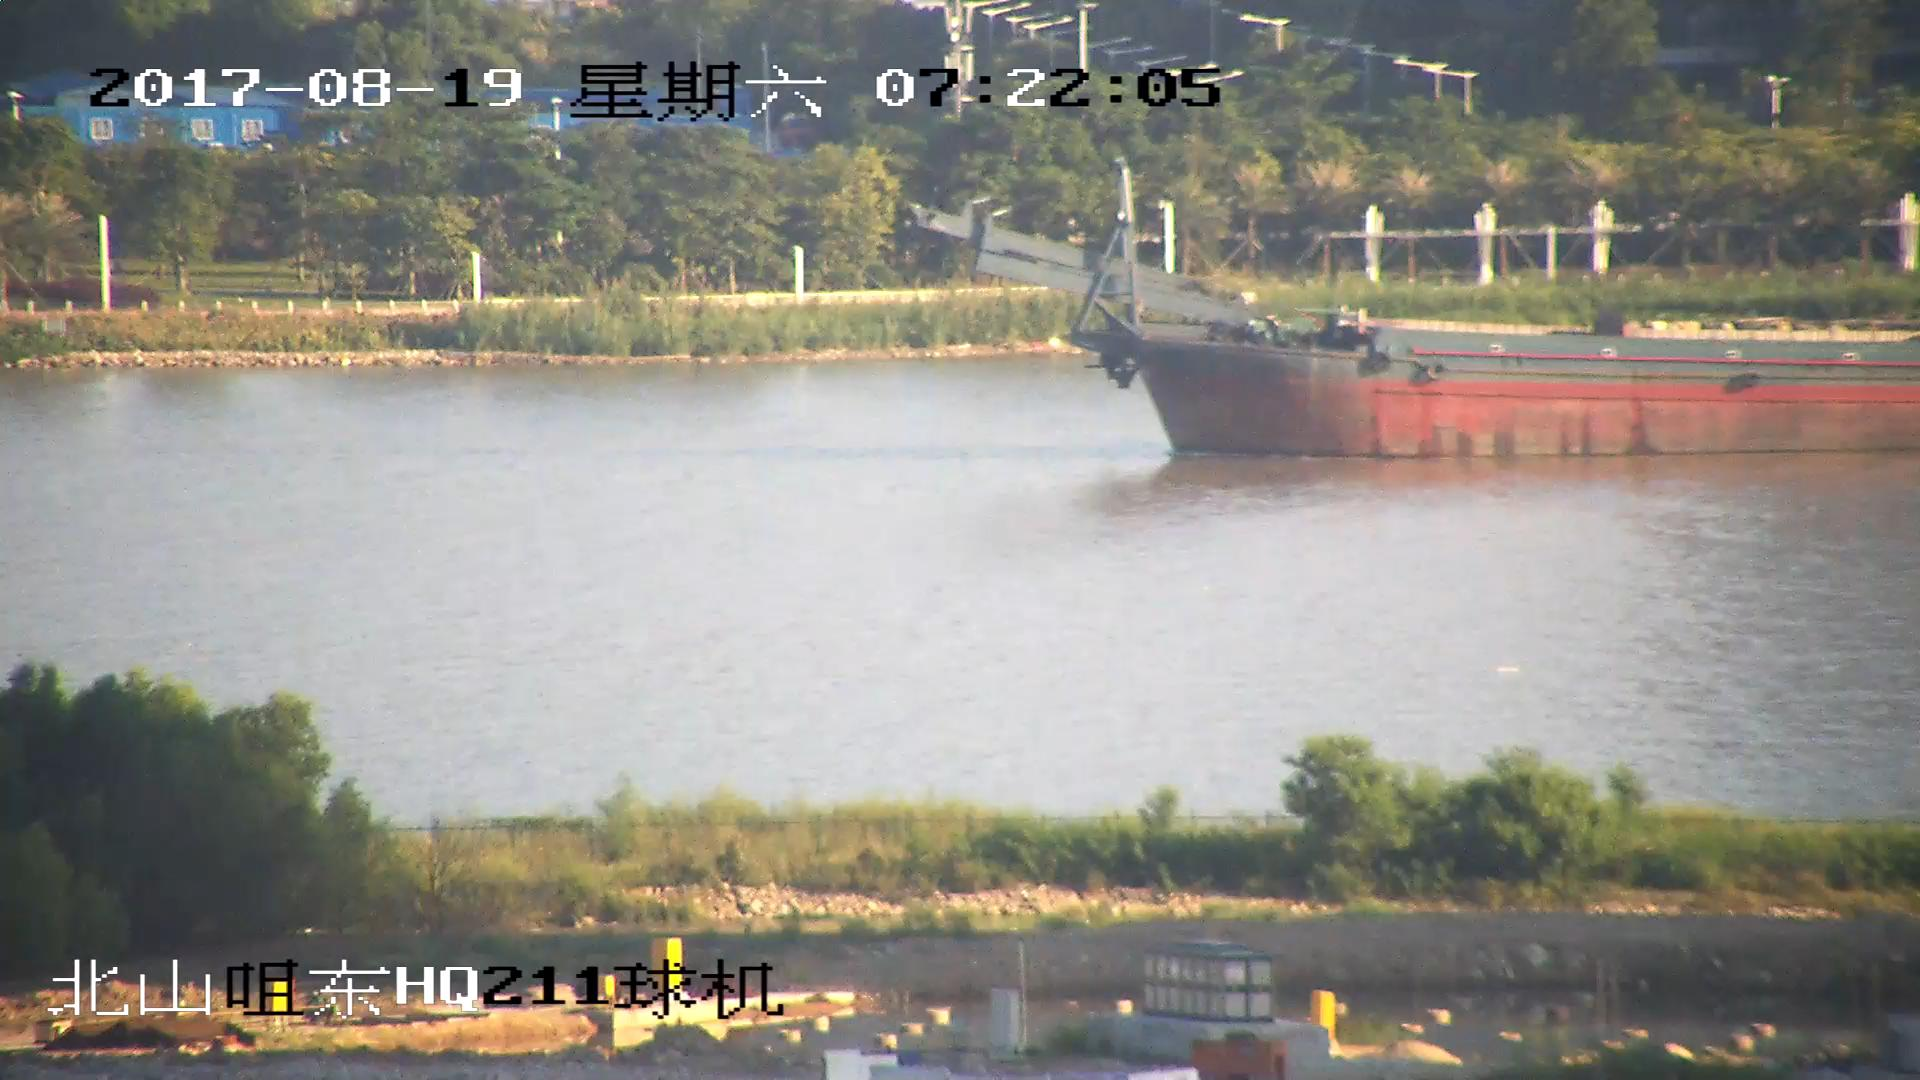bulk cargo carrier: (909, 183, 1920, 462)
